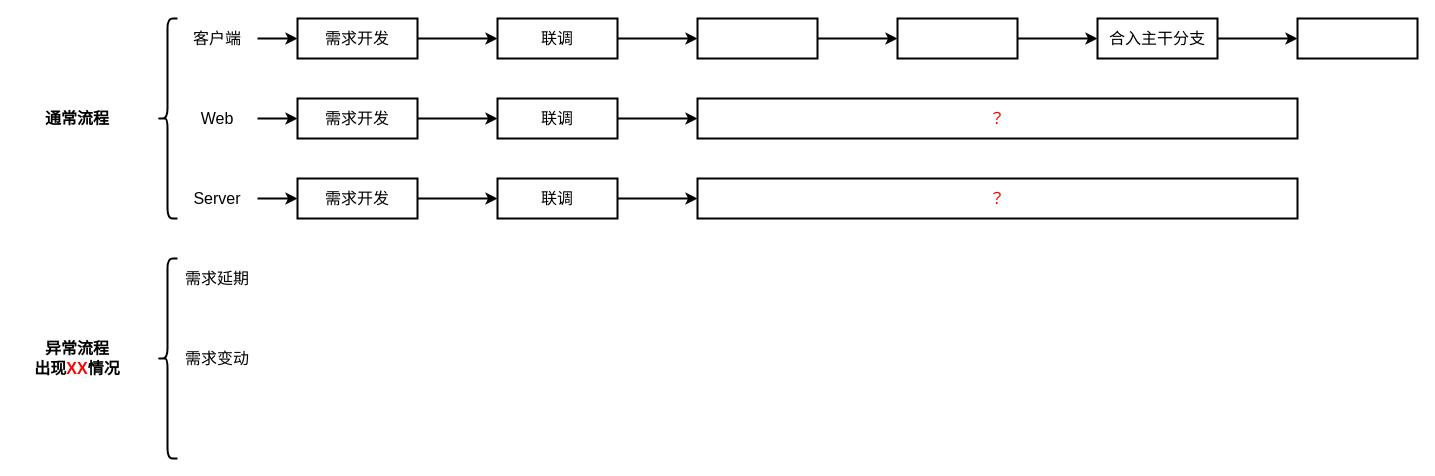
Image size: 1435x476. Some labels were removed from this diagram. Here are the shapes that lost their labels. From the top down, the centre of each, then its label:
pixel 757 38: 测试环境验证
pixel 957 38: 正式环境验证
pixel 1357 38: 随最近版本发布
